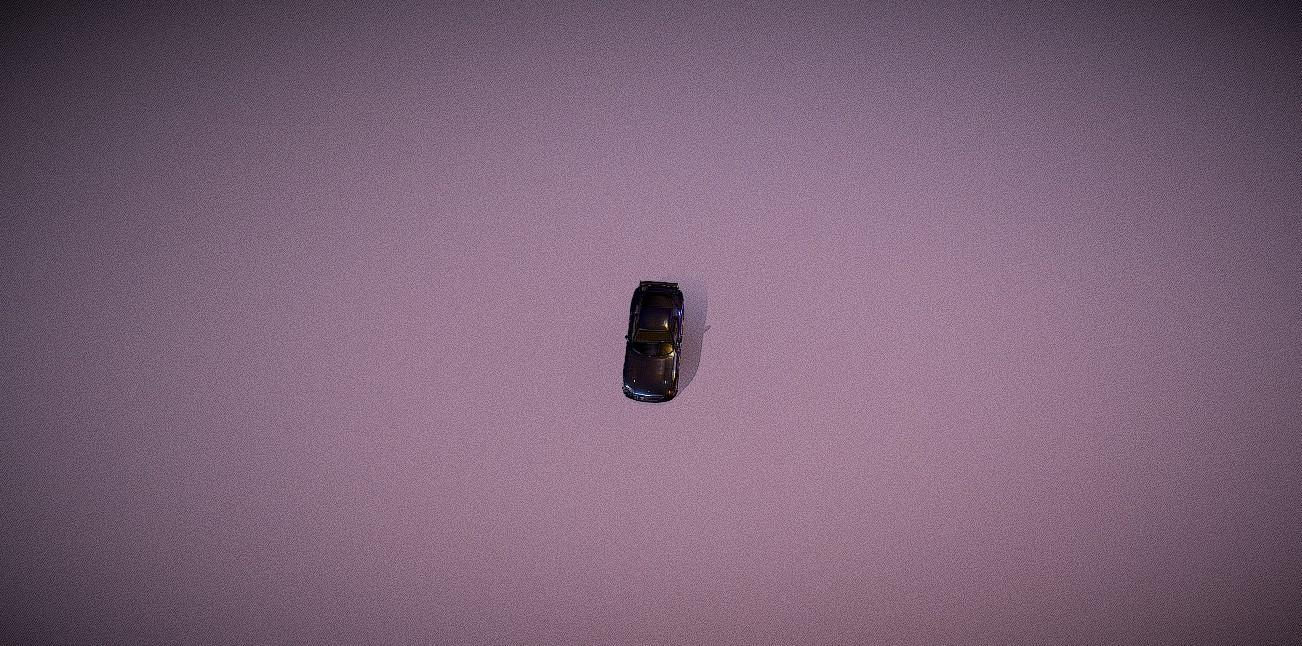Car: (621, 279, 685, 403)
